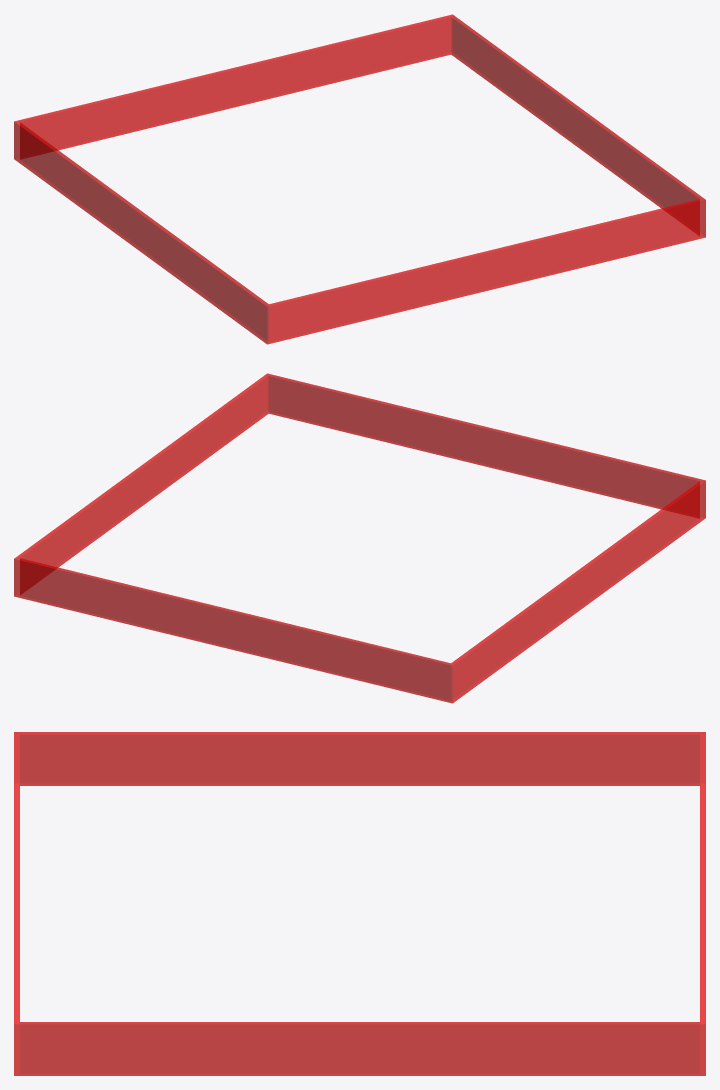
File: Fence.obj
3 renders of one model, top to bottom at view 1: azimuth 30°, elevation 25°; view 2: azimuth 150°, elevation 25°; view 3: azimuth 270°, elevation 25°, orthographic. The views are drawn at different scales.
Parts seen in each view (by area): view 1: fence.001; view 2: fence.001; view 3: fence.001.
Part boxes in pixels (bbox=[...]): fence.001: bbox=[14, 14, 705, 344]; fence.001: bbox=[14, 373, 705, 703]; fence.001: bbox=[14, 732, 705, 1075].
Bounding box in the file's own units: 716 × 58.82 × 716.
